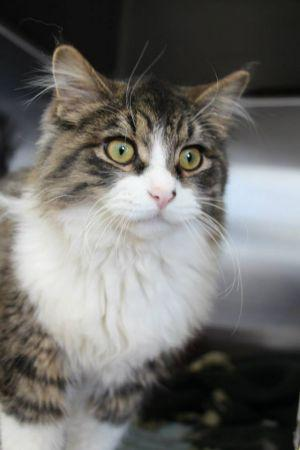ragdoll: (43, 36, 257, 259)
